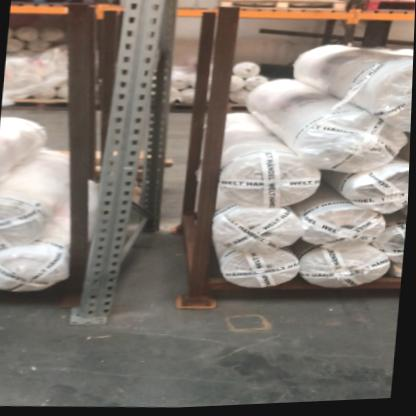vertical_damage: (66, 277, 127, 331)
